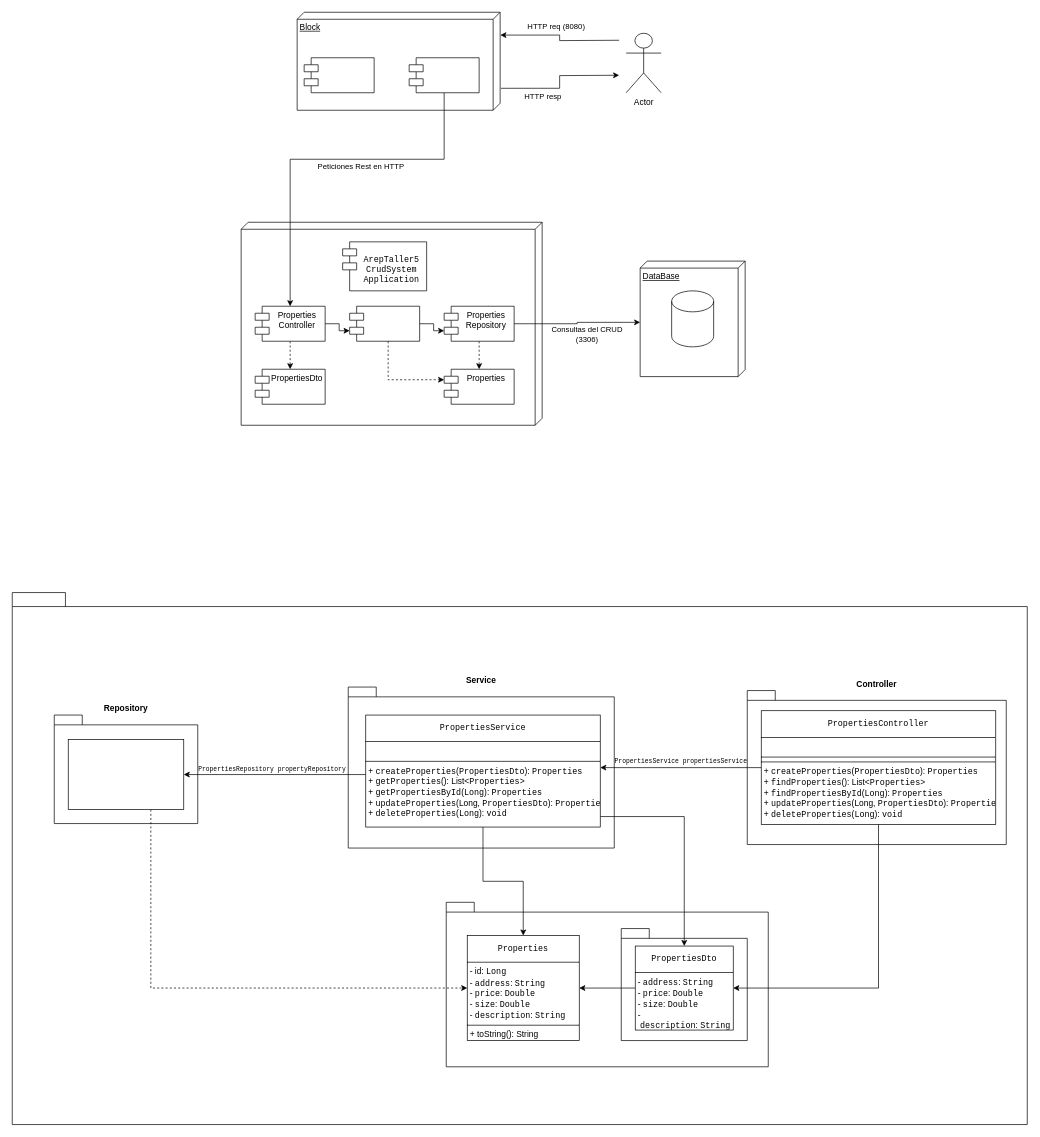
Image size: 1040x1137. Some labels were removed from this diagram. Each missing label, with the box of its shape:
<<Interface>> PropertiesRepository: (68, 739, 184, 810)
Backend (Springboot): (240, 222, 542, 425)
com.edu.eci.arep.ArepTaller5CRUDSystem: (12, 592, 1027, 1125)
Css: (303, 57, 374, 93)
HTML/JS: (408, 57, 479, 93)
Model: (446, 902, 768, 1067)
MySQL: (671, 290, 714, 347)
Properties Service: (349, 306, 420, 341)
